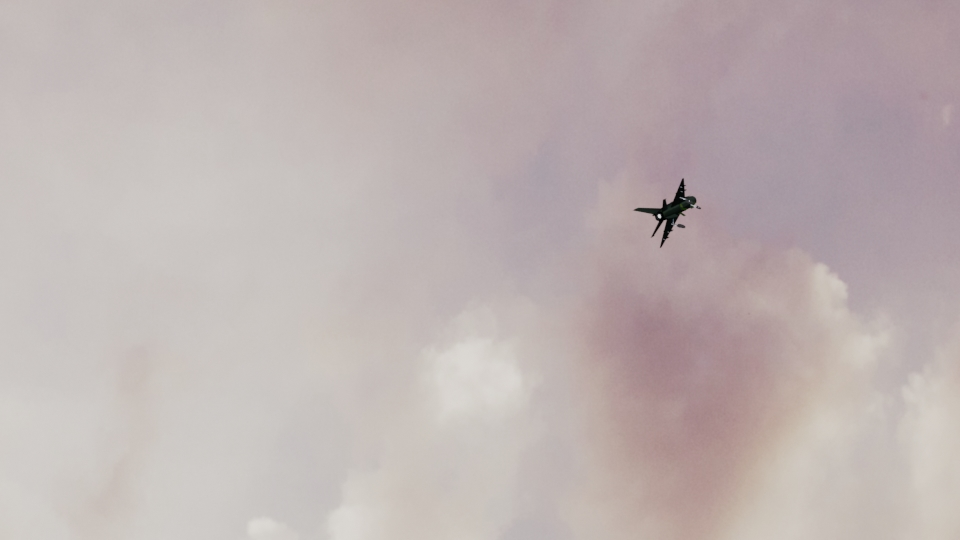plane: (632, 178, 700, 247)
